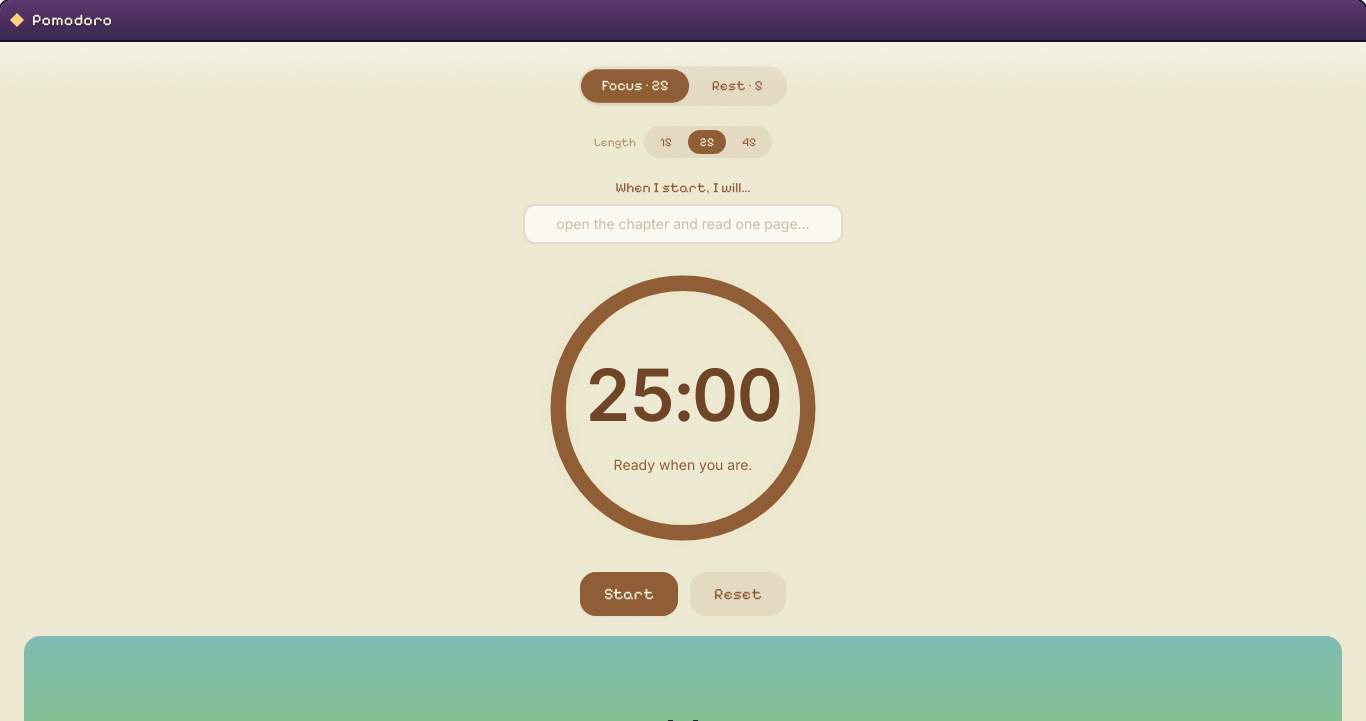
it: PomodoroTimer — companion presence › lights a lantern beside the companion only in the golden minute
Click the button "Start" at point(629, 594), box [580,572,678,616]
Wait 1470000 ms
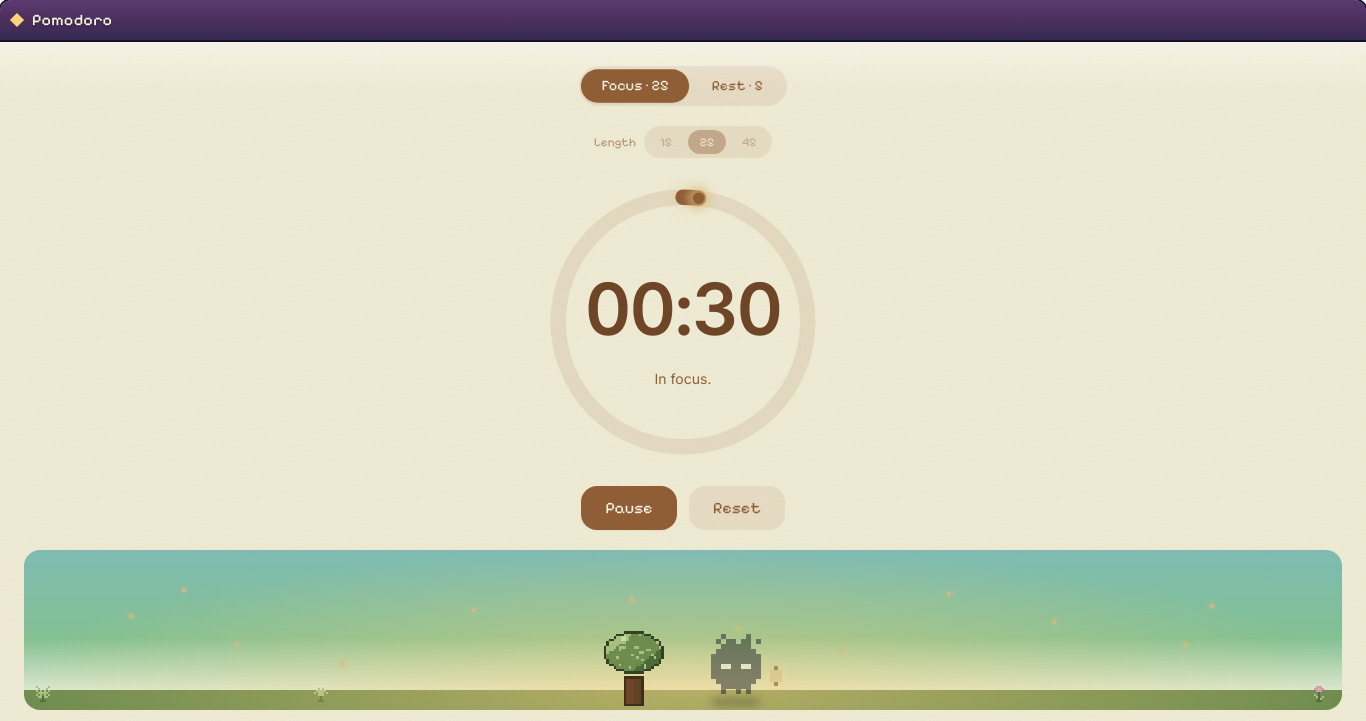
Check: the element with class "animate-lantern-flicker" is shown, box [770,666,782,686]
